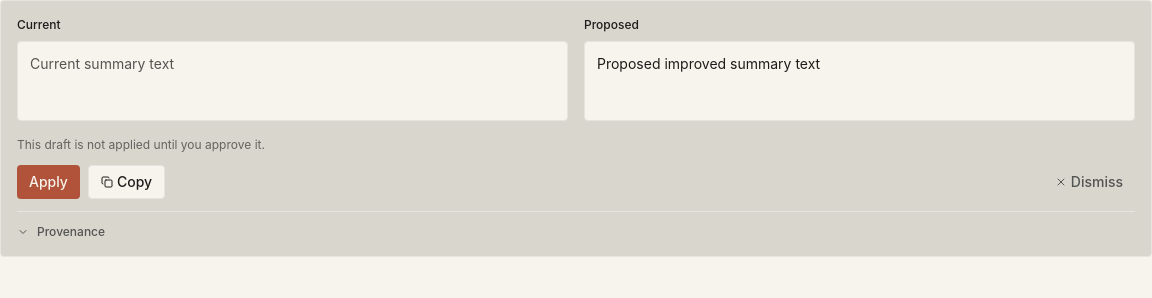
Test: SuggestionCard › provenance › shows provenance when toggle clicked
This screenshot has width=1152, height=298.
Click the button "Provenance": x=61, y=232 [17,224,105,240]
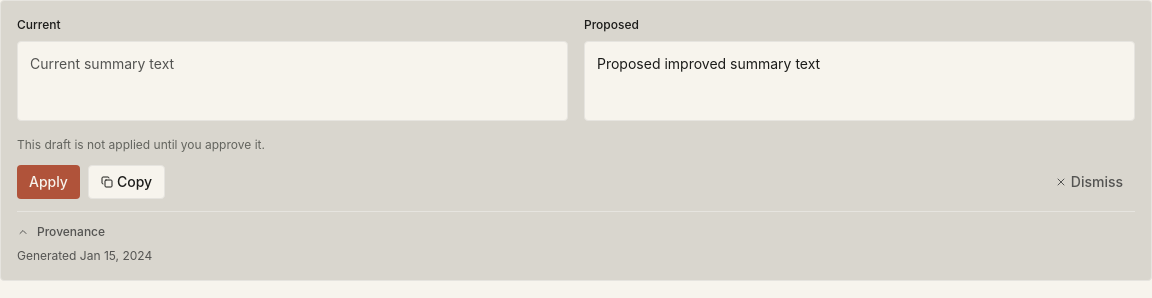
Expected: the text "Generated Jan 15, 2024" is shown, [17,248,152,263]
